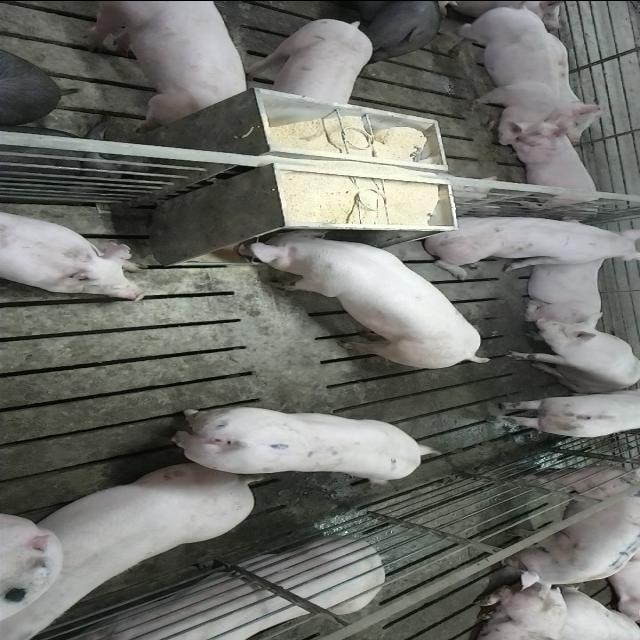Feeding: (236, 222, 492, 364)
Sitting: (418, 212, 636, 272), (502, 318, 640, 392)
Standing: (6, 460, 266, 635), (76, 2, 254, 126), (166, 404, 438, 484), (434, 3, 566, 143), (503, 461, 640, 591), (242, 17, 374, 107), (482, 385, 638, 439), (313, 0, 451, 58)
Sternal_lying: (61, 538, 389, 640), (0, 206, 149, 300), (502, 125, 606, 213), (519, 247, 607, 331)
